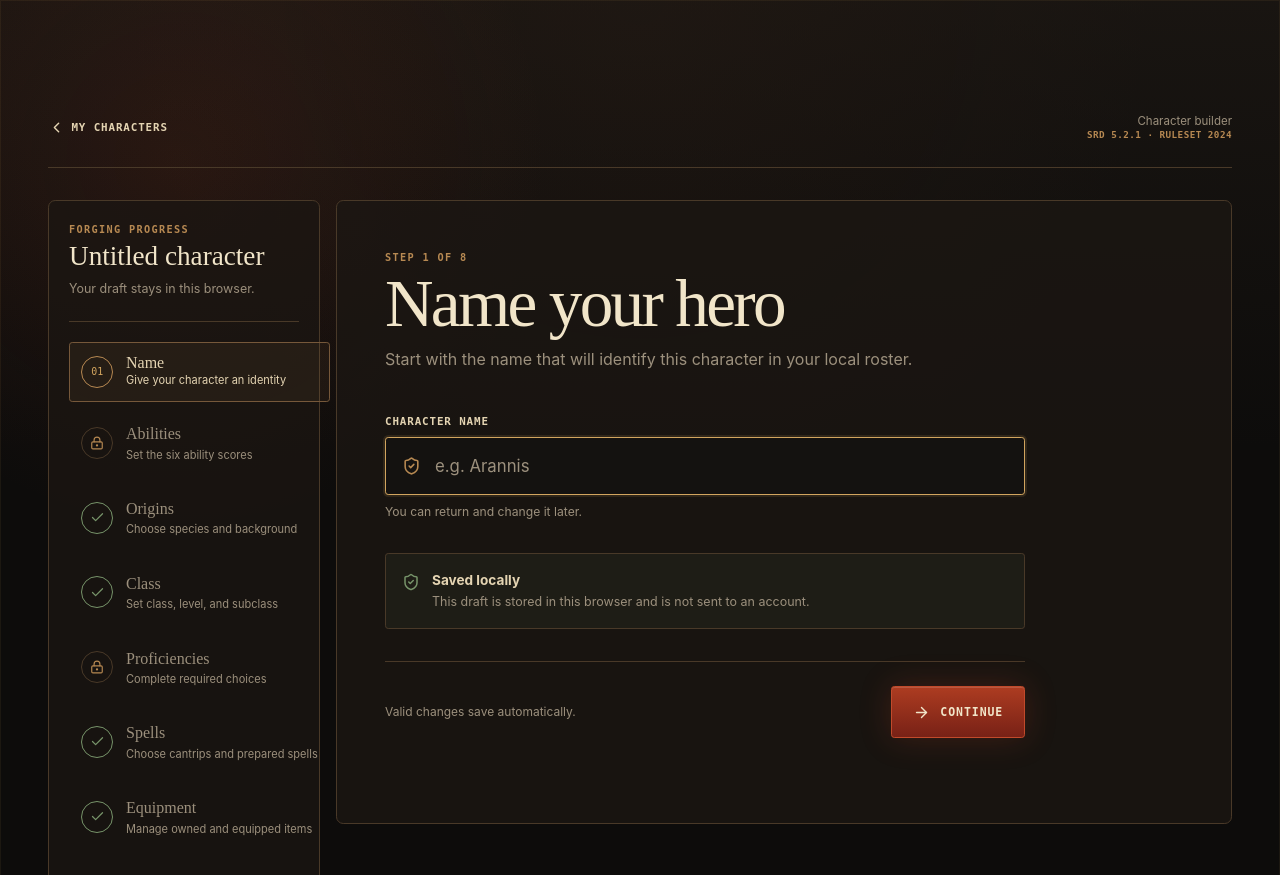
it: CharacterBuilderPage › reports a conflicting tab without overwriting its newer draft
Type "Lyra" into the field labelled "Character name". click: (720, 466)
box: [433,452,1008,480]
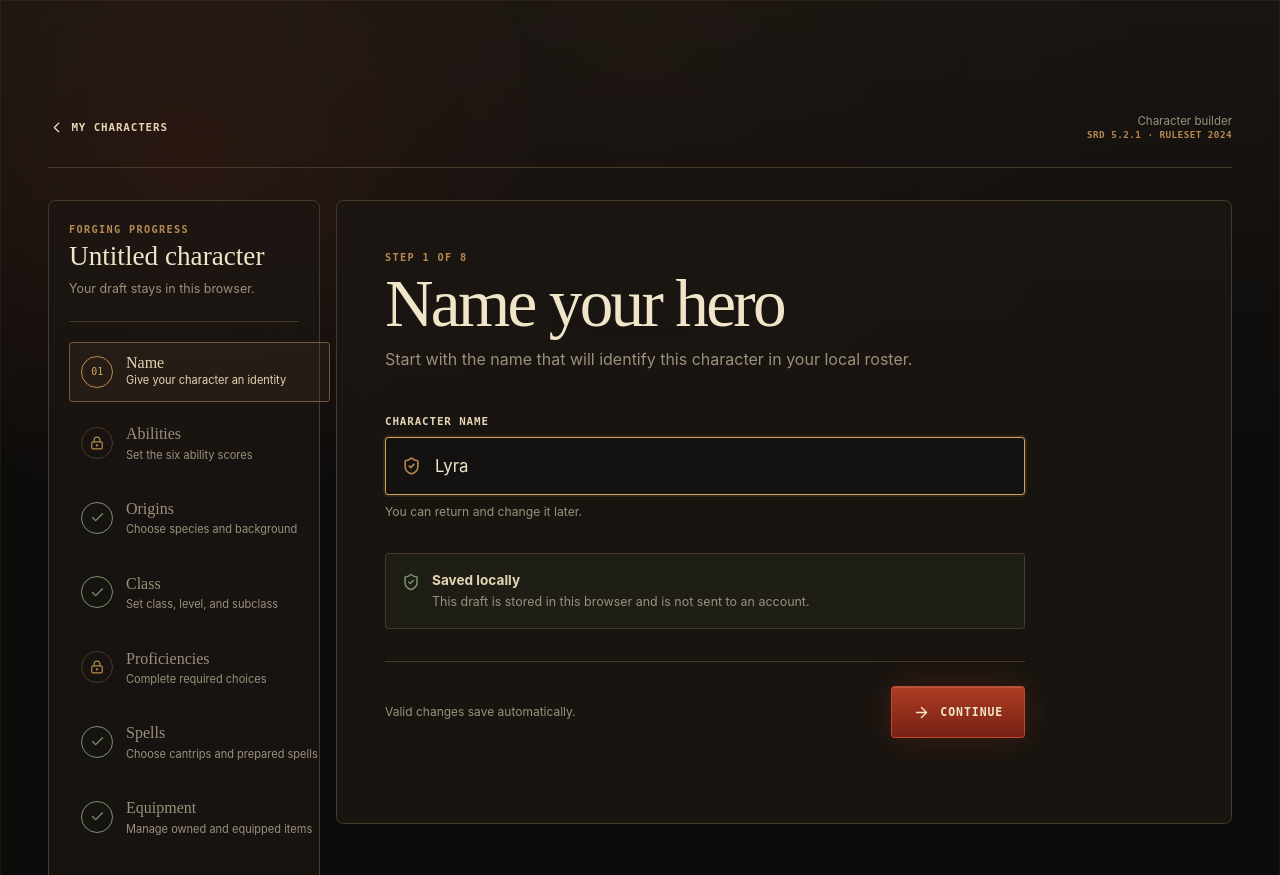
Click the button "Continue". click: (958, 712)
box: [891,686,1025,738]
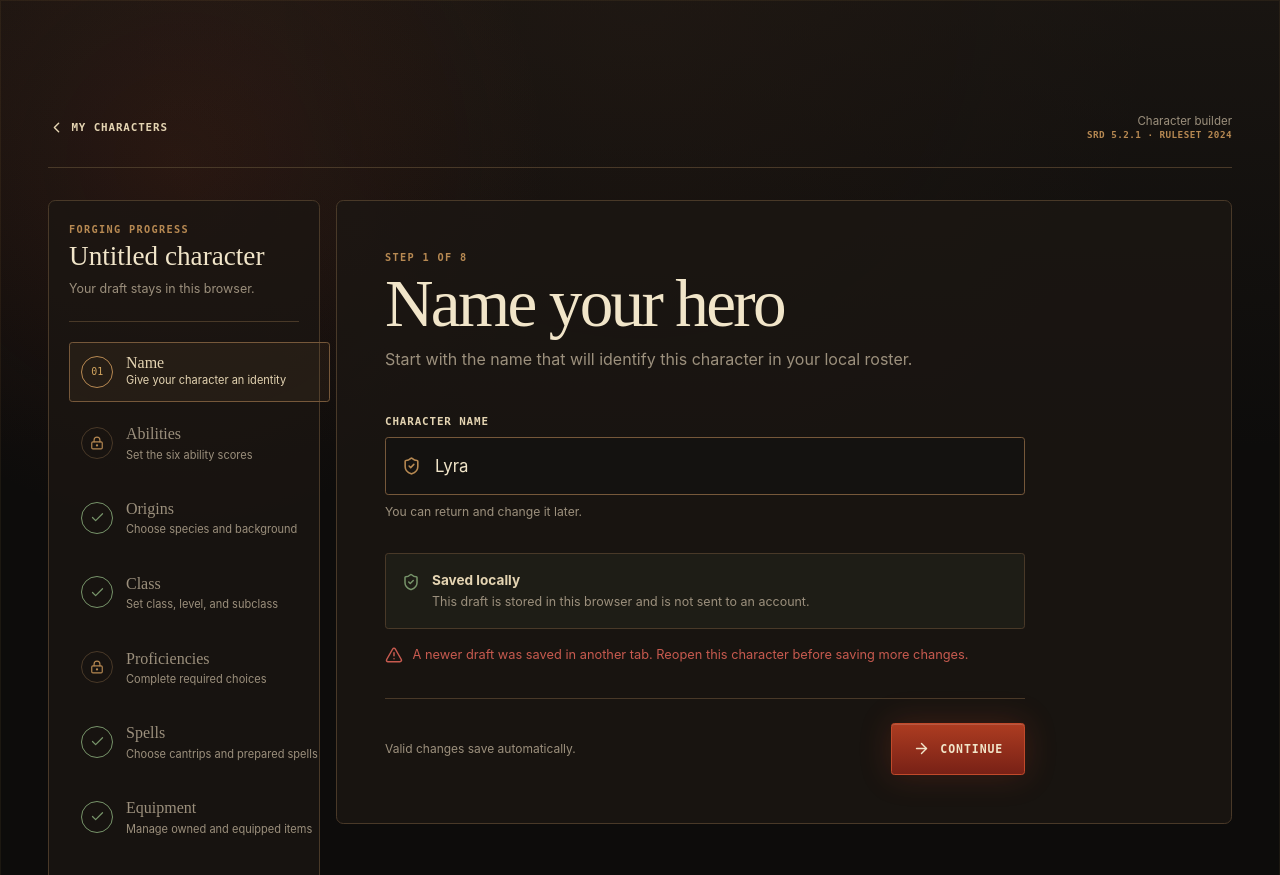
Expected: the heading "Name your hero" is shown, [385,266,784,341]
Now the message shows "A newer draft was saved in another tab", box [413,647,968,662]
